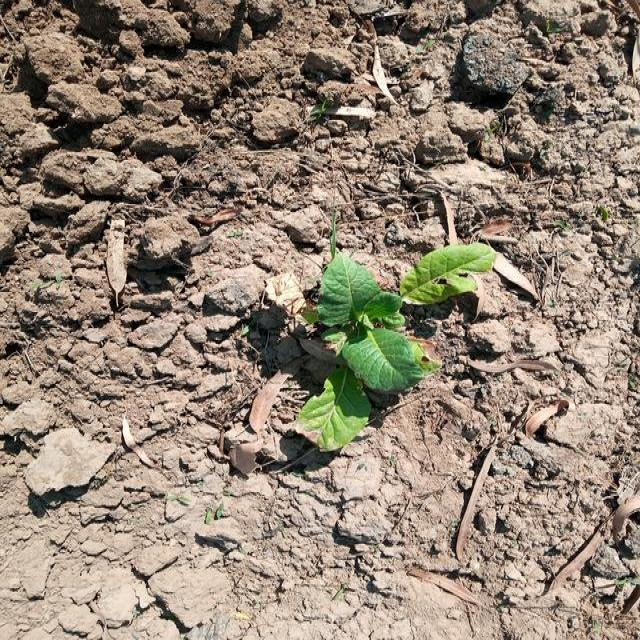crop: (302, 223, 482, 475)
